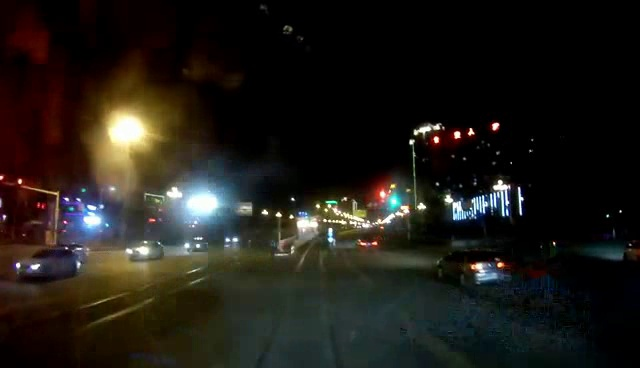car: (428, 248, 513, 285), (12, 248, 83, 282), (122, 239, 171, 261), (186, 236, 212, 251)
